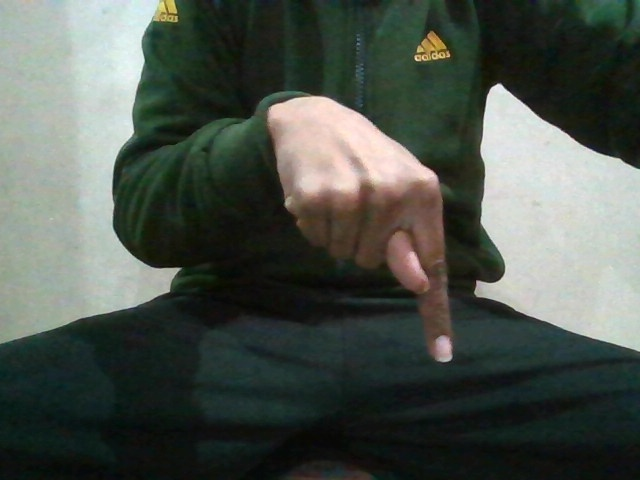Z: (279, 122, 477, 364)
